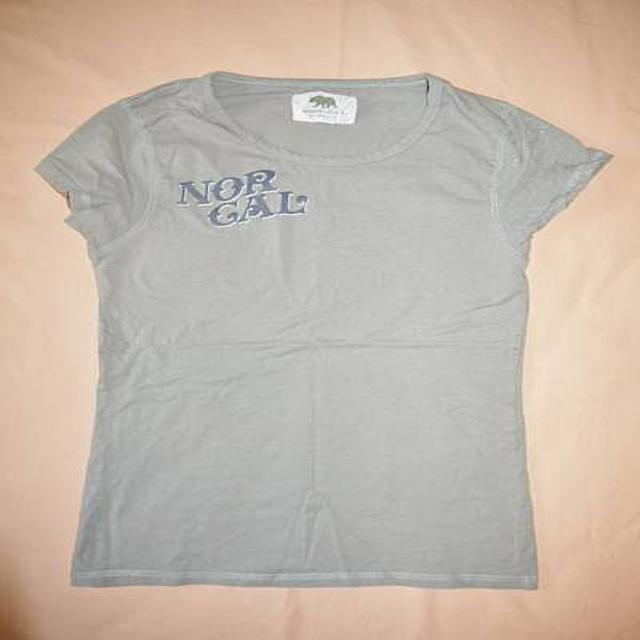T_SHIRT: (14, 63, 623, 595)
